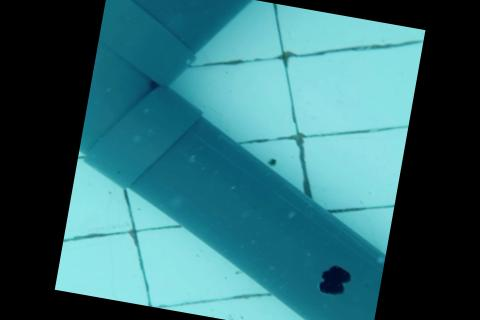kebocoran: (317, 260, 352, 298)
